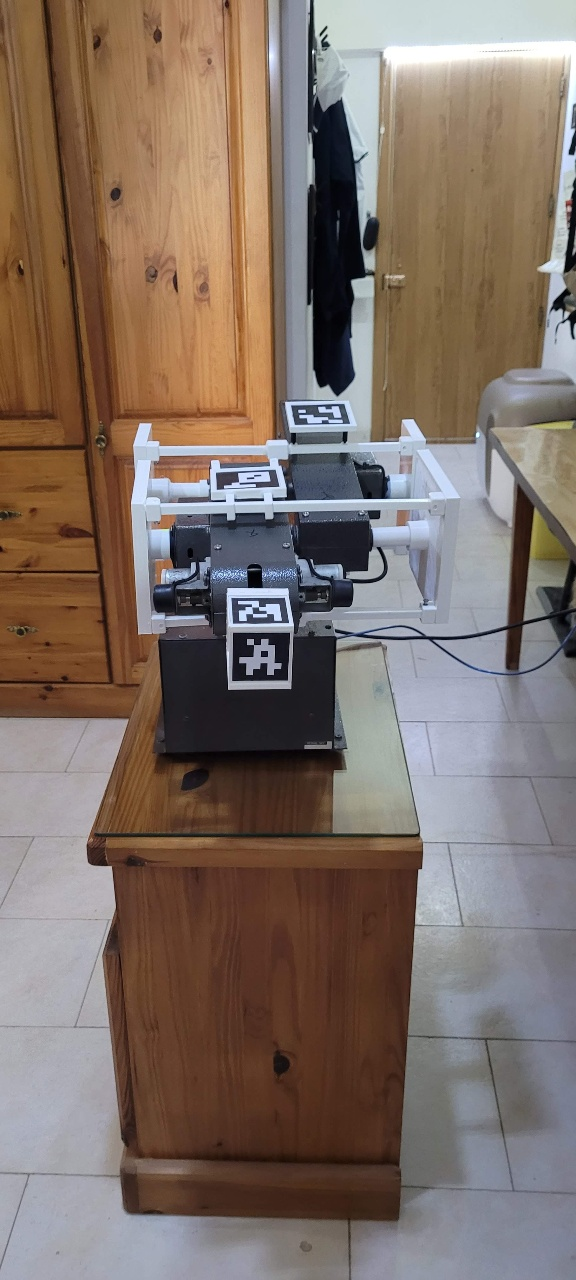Robot: (60, 82, 514, 1093)
